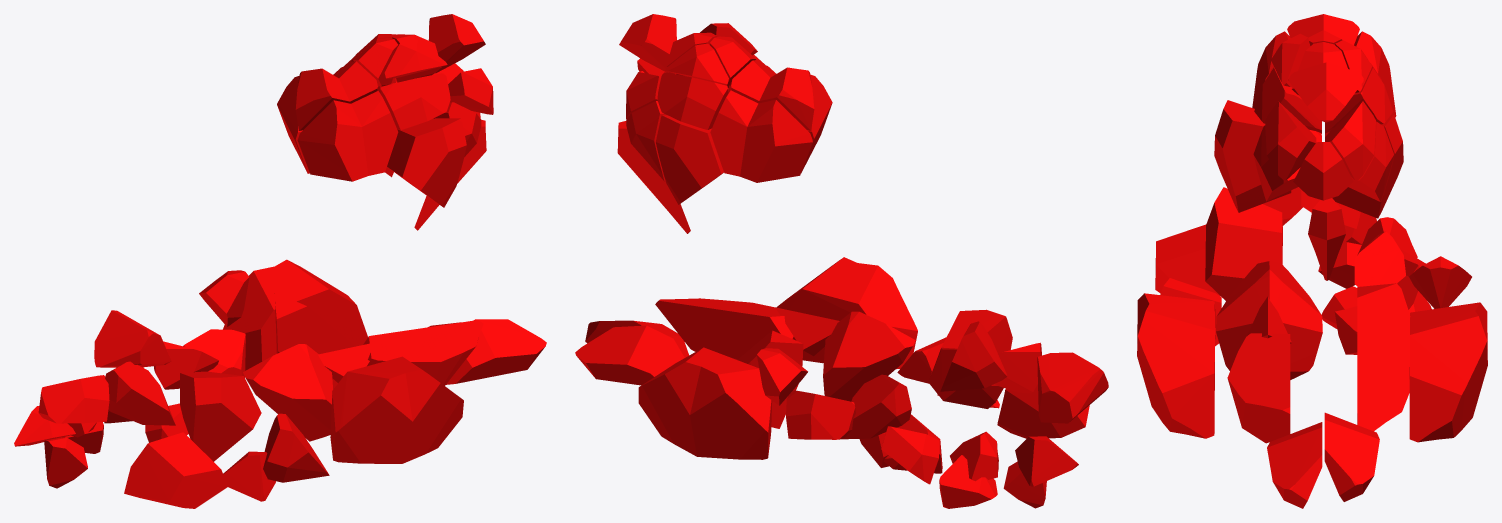
Rendered from Env_Heart_03a.fbx.
3 views of the same model, side by side, from view 1: azimuth 30°, elevation 25°; view 2: azimuth 150°, elevation 25°; view 3: azimuth 270°, elevation 25° (orthographic). The views are drawn at different scales.
Visible parts, largest first — view 1: Cube.009_cell.111; view 2: Cube.009_cell.111; view 3: Cube.009_cell.111.
Part boxes in pixels (left/top/right/bottom): Cube.009_cell.111: left=14, top=14, right=546, bottom=508; Cube.009_cell.111: left=575, top=14, right=1108, bottom=508; Cube.009_cell.111: left=1137, top=14, right=1487, bottom=508.
Bounding box in the file's own units: 246 × 179 × 129.
